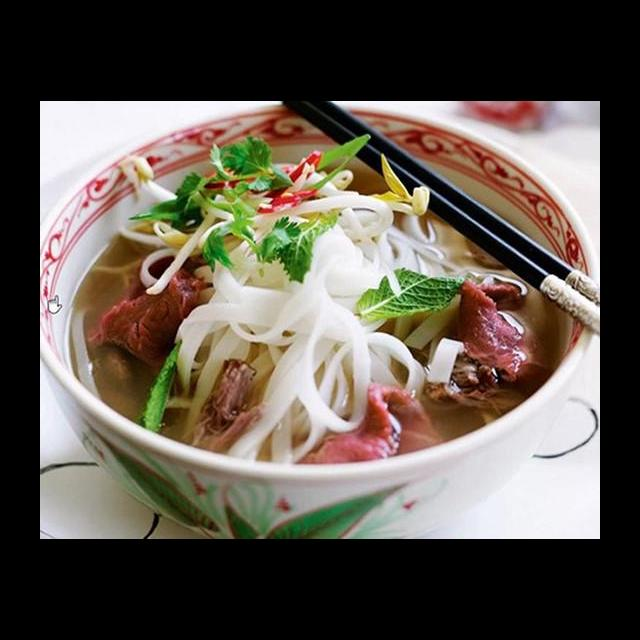banh pho: (208, 196, 475, 390), (215, 353, 338, 477), (167, 289, 257, 399)
pho bo: (41, 140, 590, 539)
thit bo: (416, 272, 555, 421), (85, 258, 208, 379), (305, 373, 437, 470), (191, 354, 270, 459)
